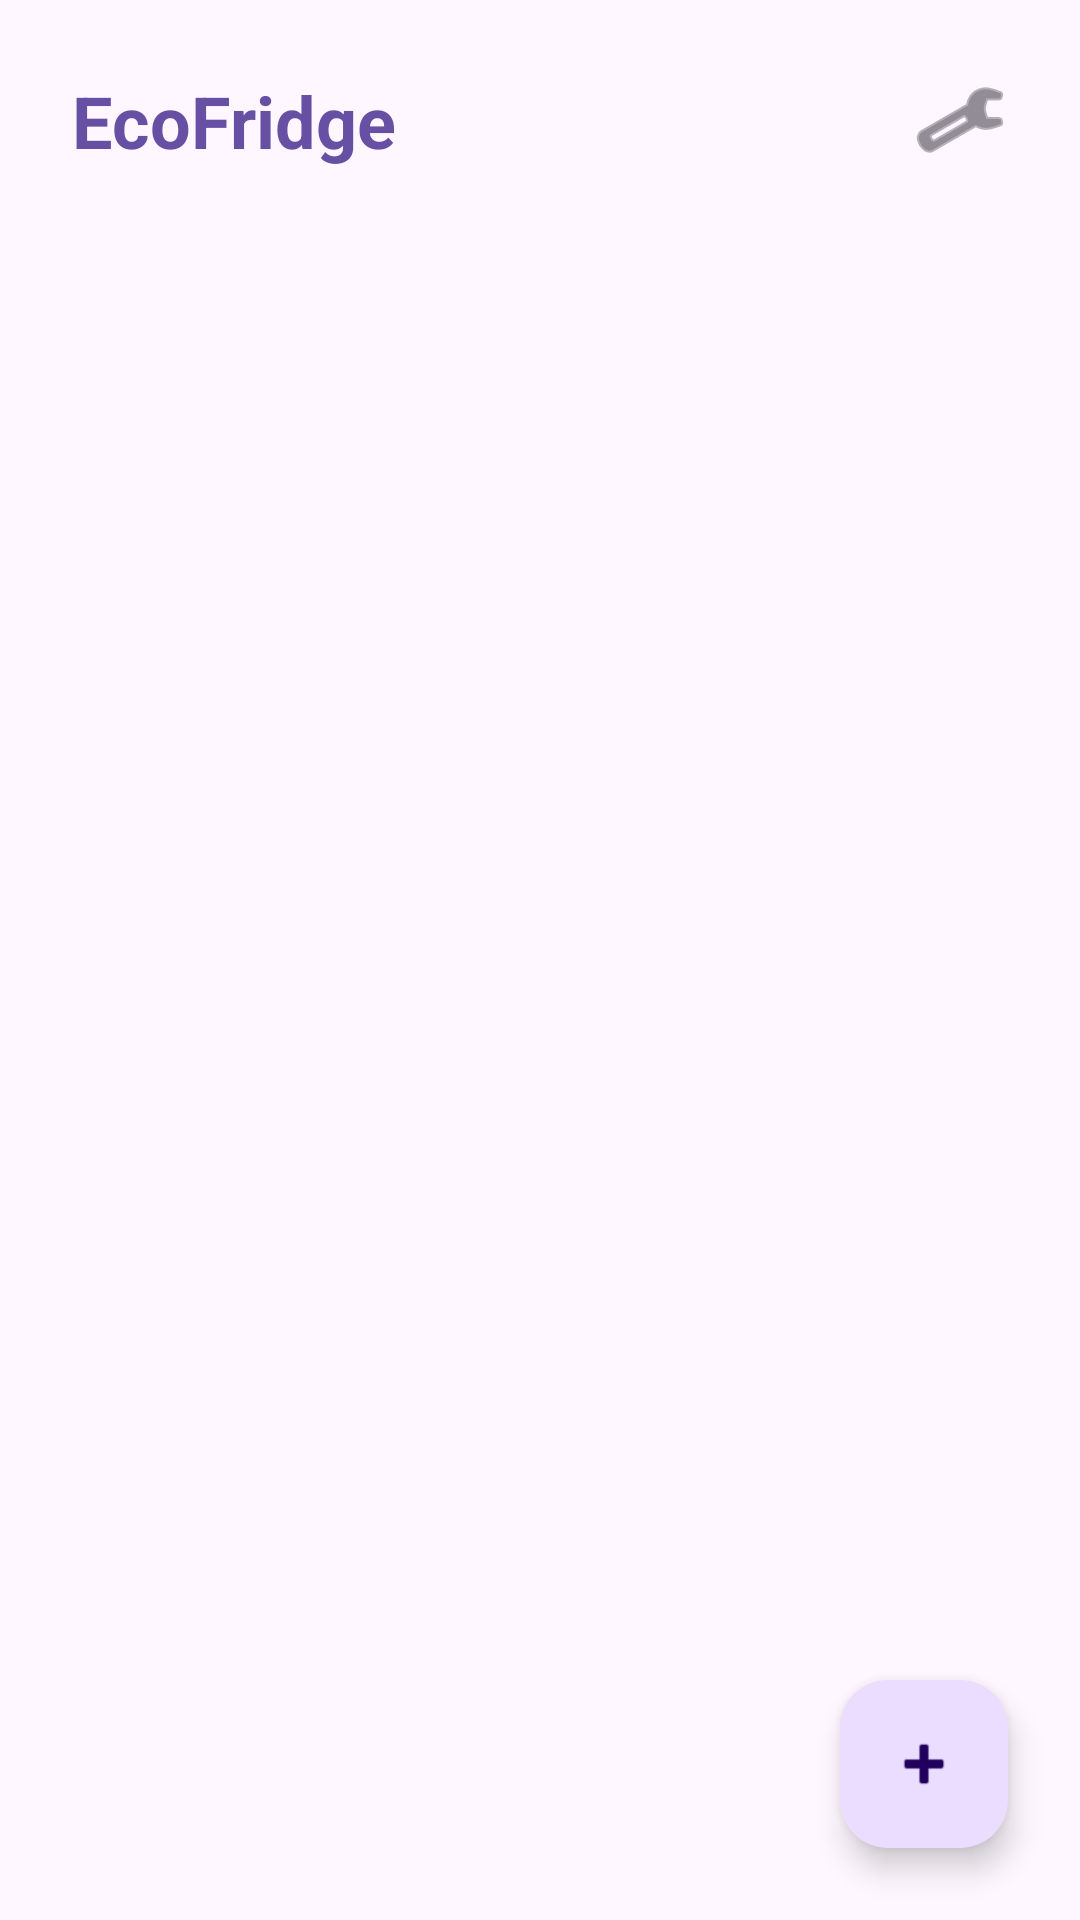

Icon bounding boxes for this 1080×1920 phone screenshot, format {"x1": x1, "y1": y1, "x2": x2, "y2": y2}:
Añadir producto: {"x1": 840, "y1": 1680, "x2": 1008, "y2": 1848}
Settings: {"x1": 917, "y1": 87, "x2": 1003, "y2": 153}
